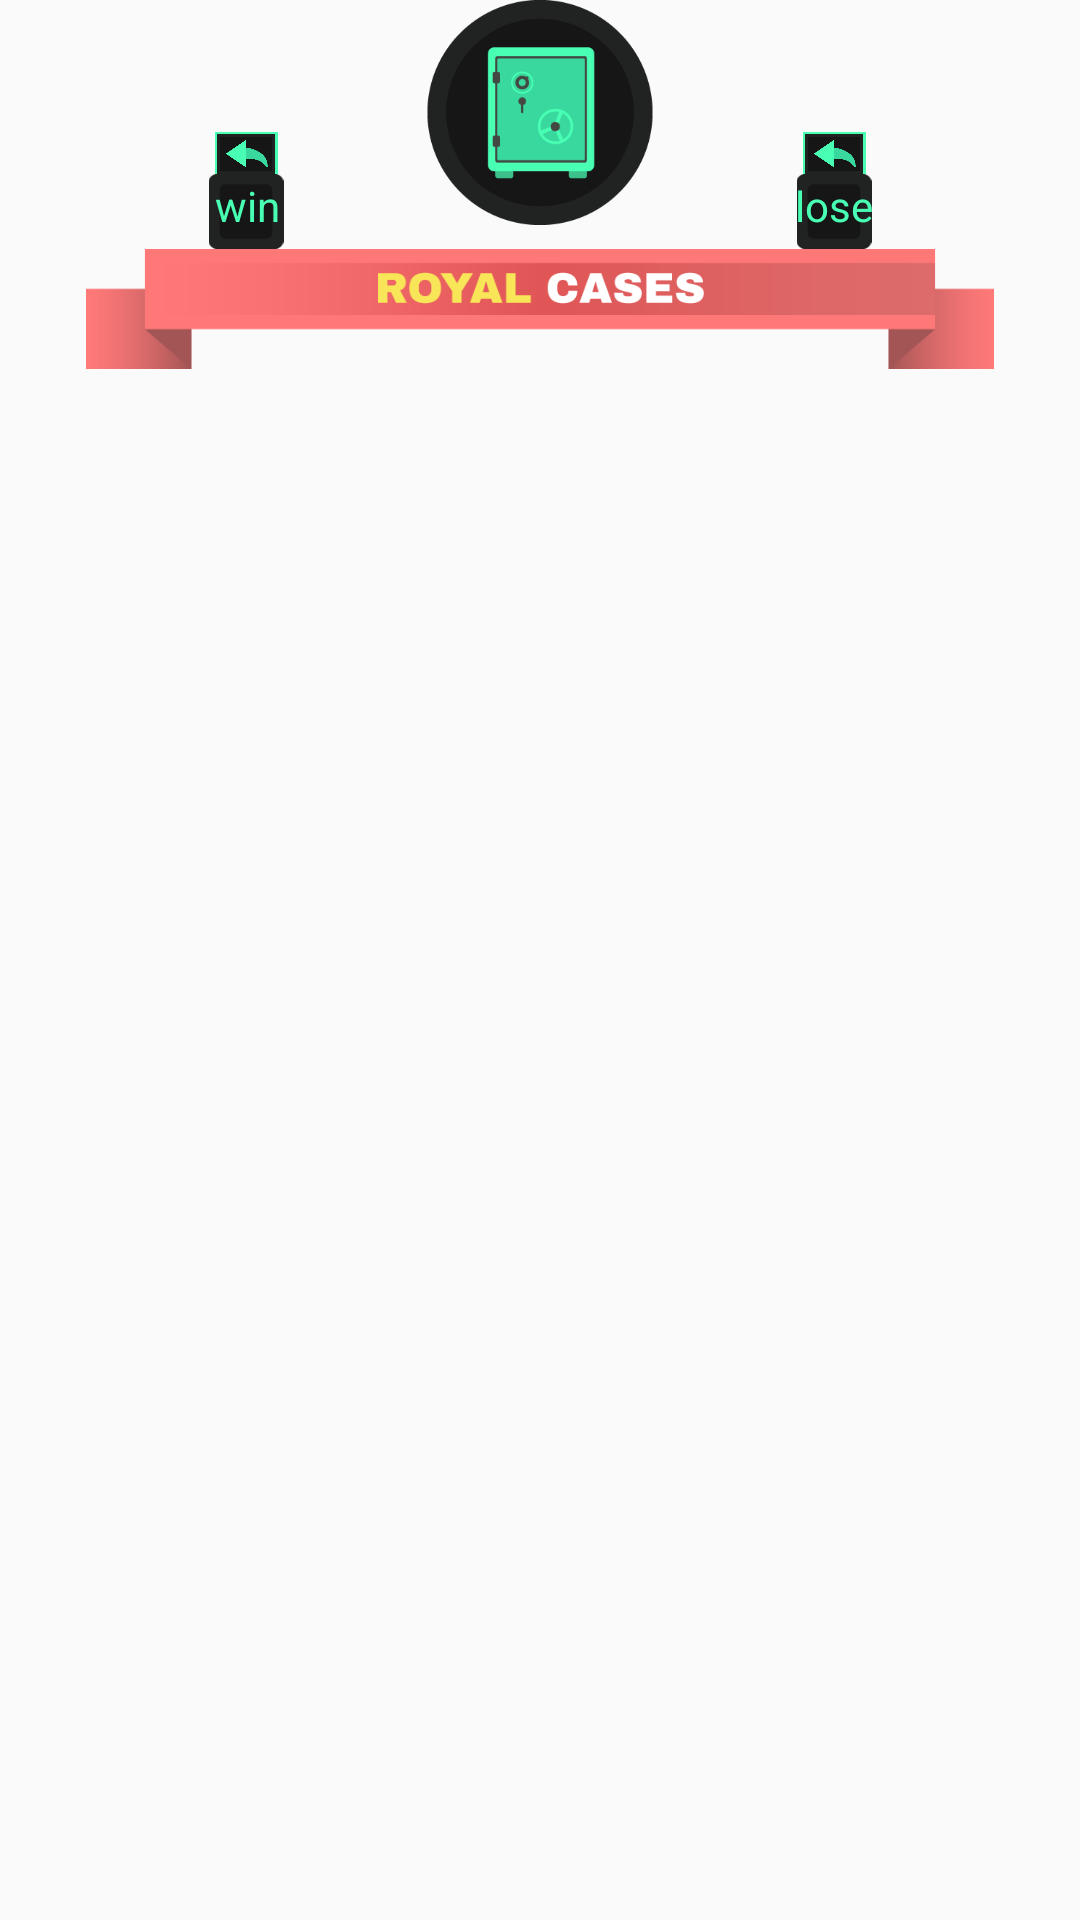

Screen size 1080 × 1920. Icon name, then its center in pixels as (x,y):
back: (246,153), (834,153)
item vault: (540,112)
